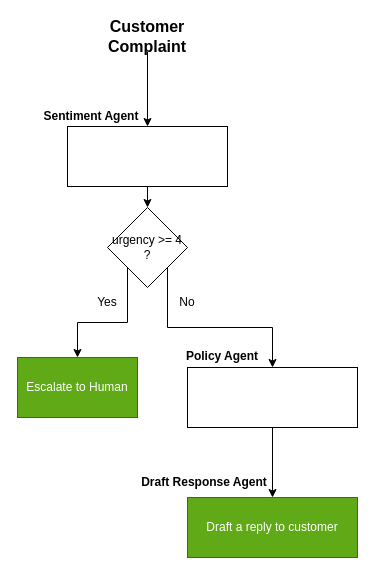
This 375x575 diagram has some shape labels left out. Here are the shapes that lost their labels. From the top down, the box of each, then its label:
(66, 126, 228, 186): Score: 1-5 Is this urgent (1 = no, 5 - yes)
(186, 366, 358, 428): Reads company policy. Provides approved remedies. What can we do?
